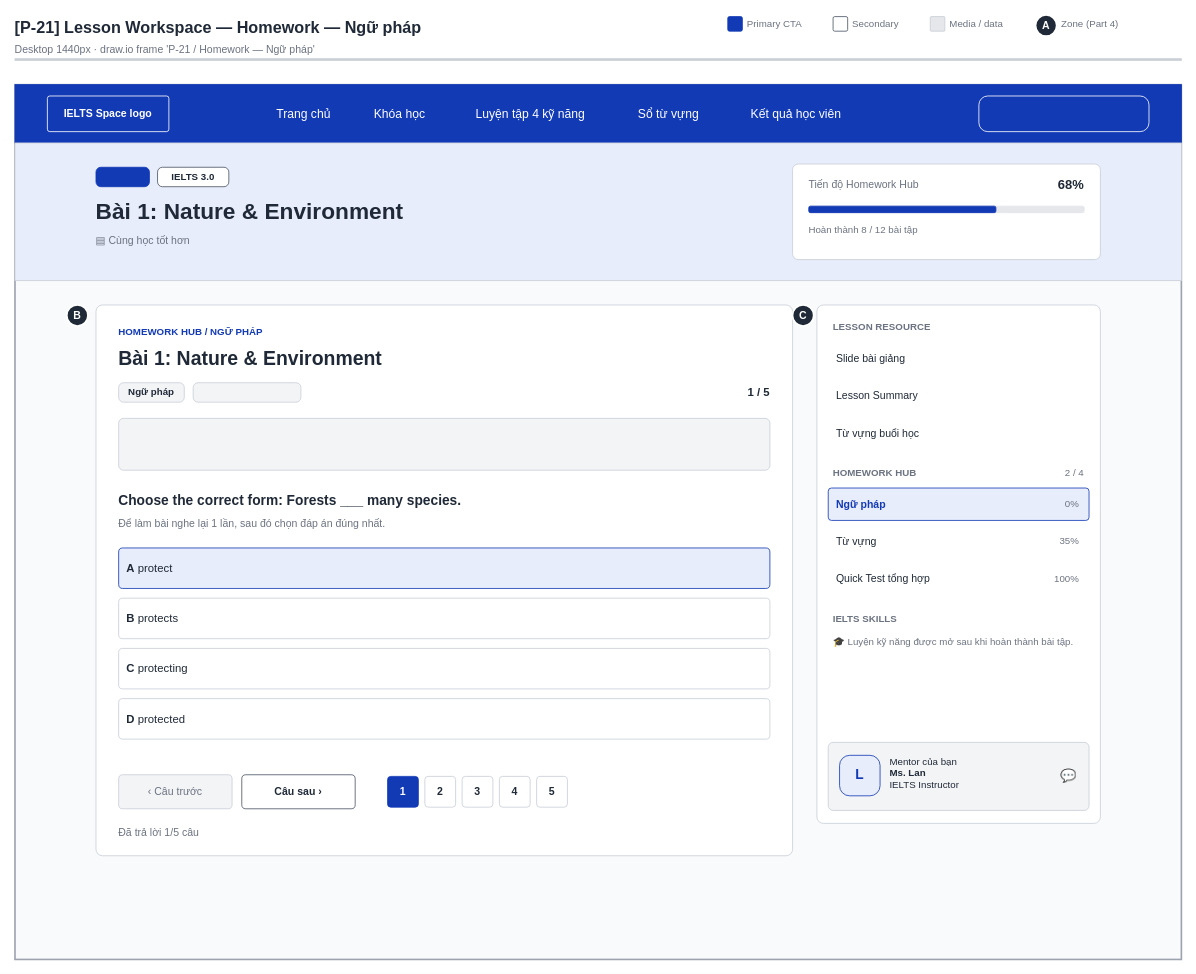
Image size: 1196x974. Some labels were removed from this diagram. Each missing label, with the centre of its shape:
Buổi 2: [122,176]
Chọn một đáp án: [246,392]
▶ Audio câu 1 ━━━━●━━━━━━ 🔊: [444,444]
◯ Học viên · 30 Points ▾: [1063,113]
